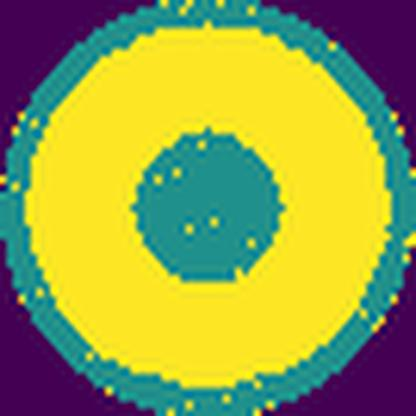Donut: (20, 17, 398, 393)
